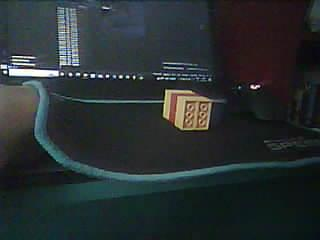lego: (162, 89, 213, 130)
